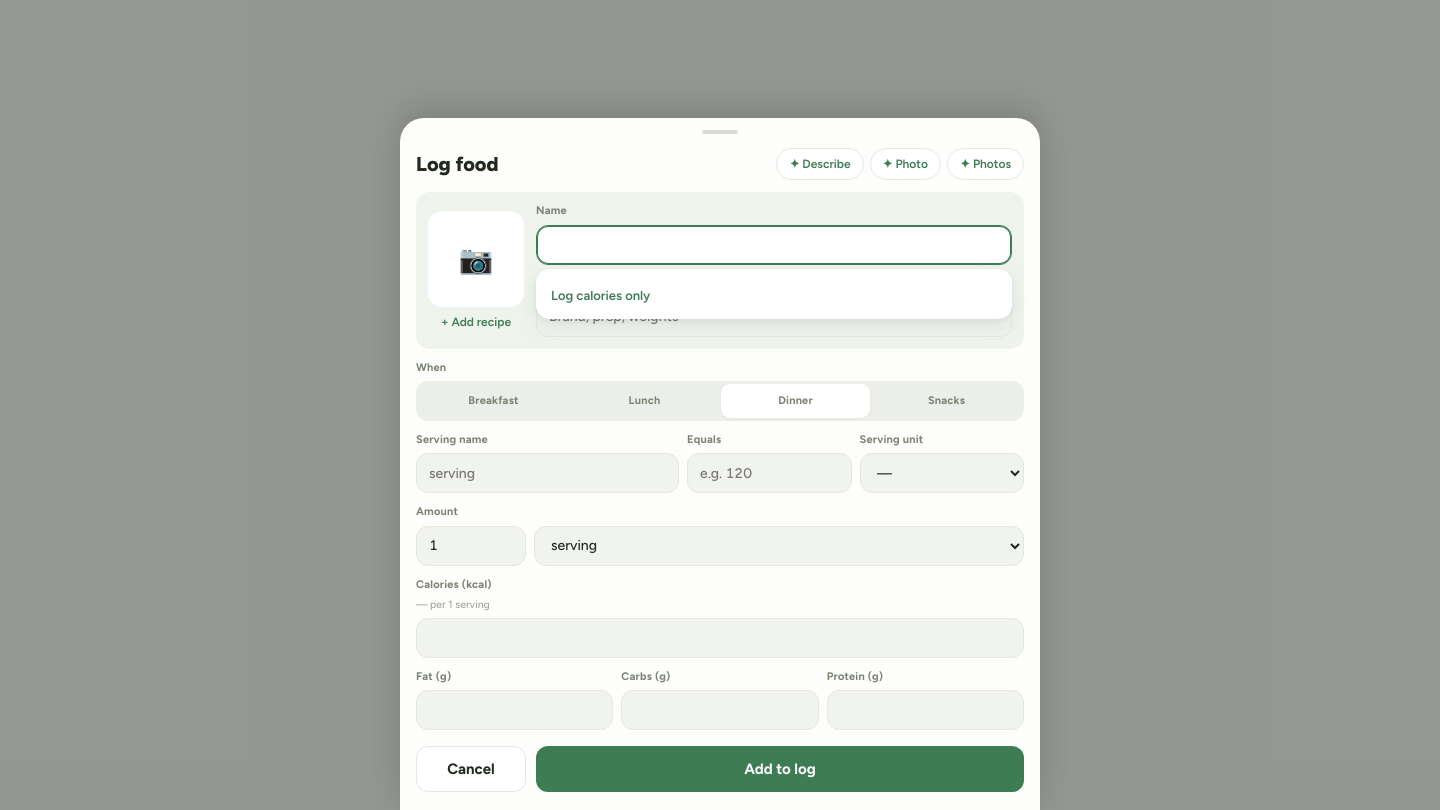
Test: EntryForm quick calories mode › switches to the quick form: fixed name, no amount/serving, nutrition and description inputs
What coordinates should you click on to do the following:
click the option "Log calories only"
I would click on:
 (601, 295)
Its box is [551,288,650,303].
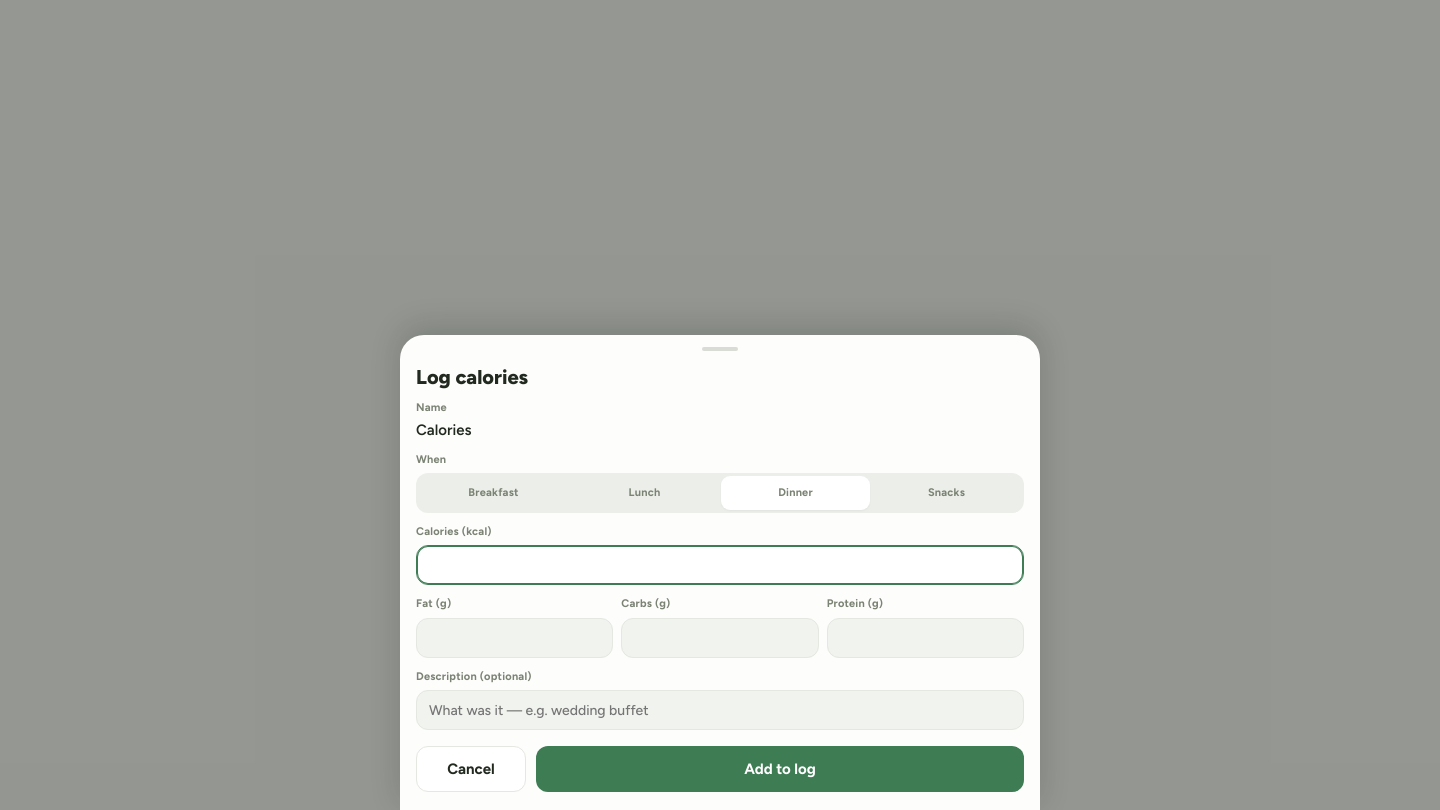
Check: the heading "Log calories" is shown, box [416,365,528,389]
Check: the text "Calories" is shown, box [416,421,471,439]
Check: the dropdown is gone
